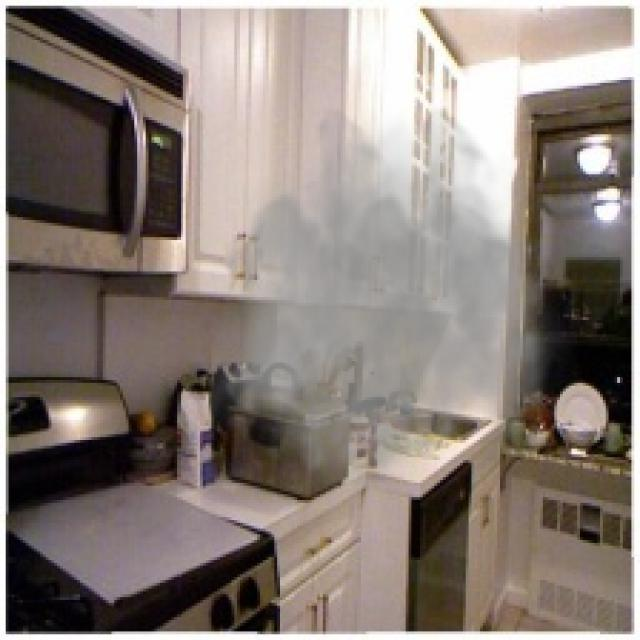smoke: (211, 103, 583, 503)
